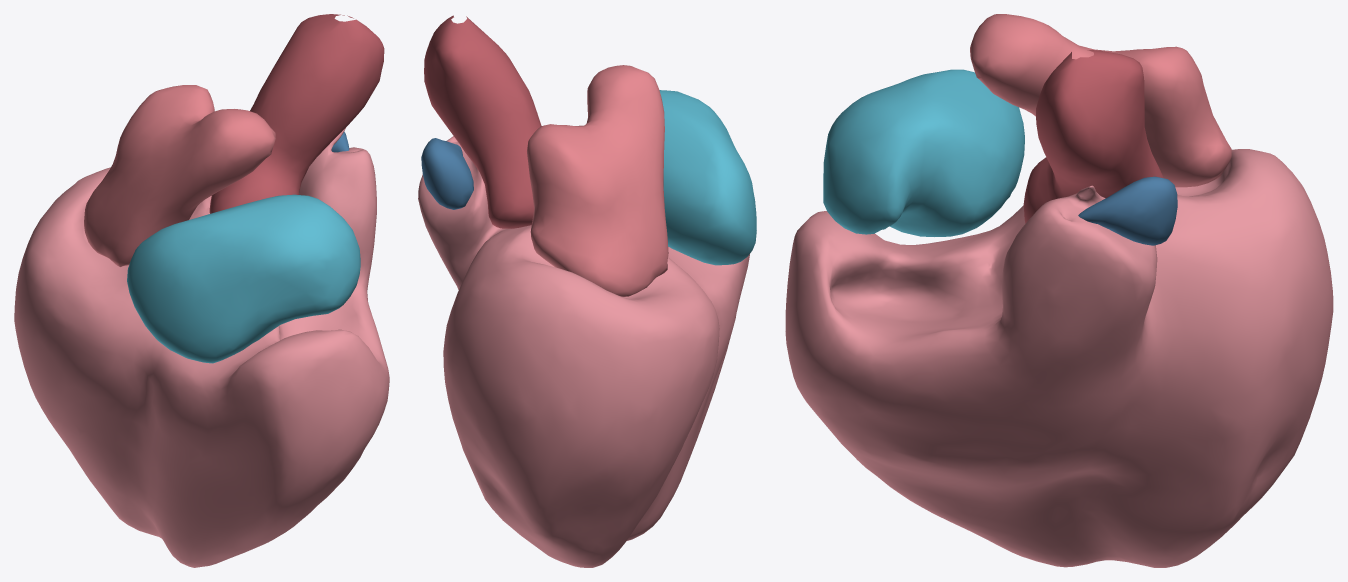
Rendered from frame_33.glb.
The picture shows the model from 3 angles, left to right: view 1: azimuth 30°, elevation 25°; view 2: azimuth 150°, elevation 25°; view 3: azimuth 270°, elevation 25°; orthographic projection. The views are drawn at different scales.
Visible parts, largest first — view 1: Renderer Node; view 2: Renderer Node; view 3: Renderer Node.
Part boxes in pixels (box(x1,y1,x2,y2)): Renderer Node: box(14, 14, 389, 567); Renderer Node: box(418, 15, 756, 567); Renderer Node: box(785, 14, 1333, 567).
Size of the model in its own units: 106 by 163 by 134.
